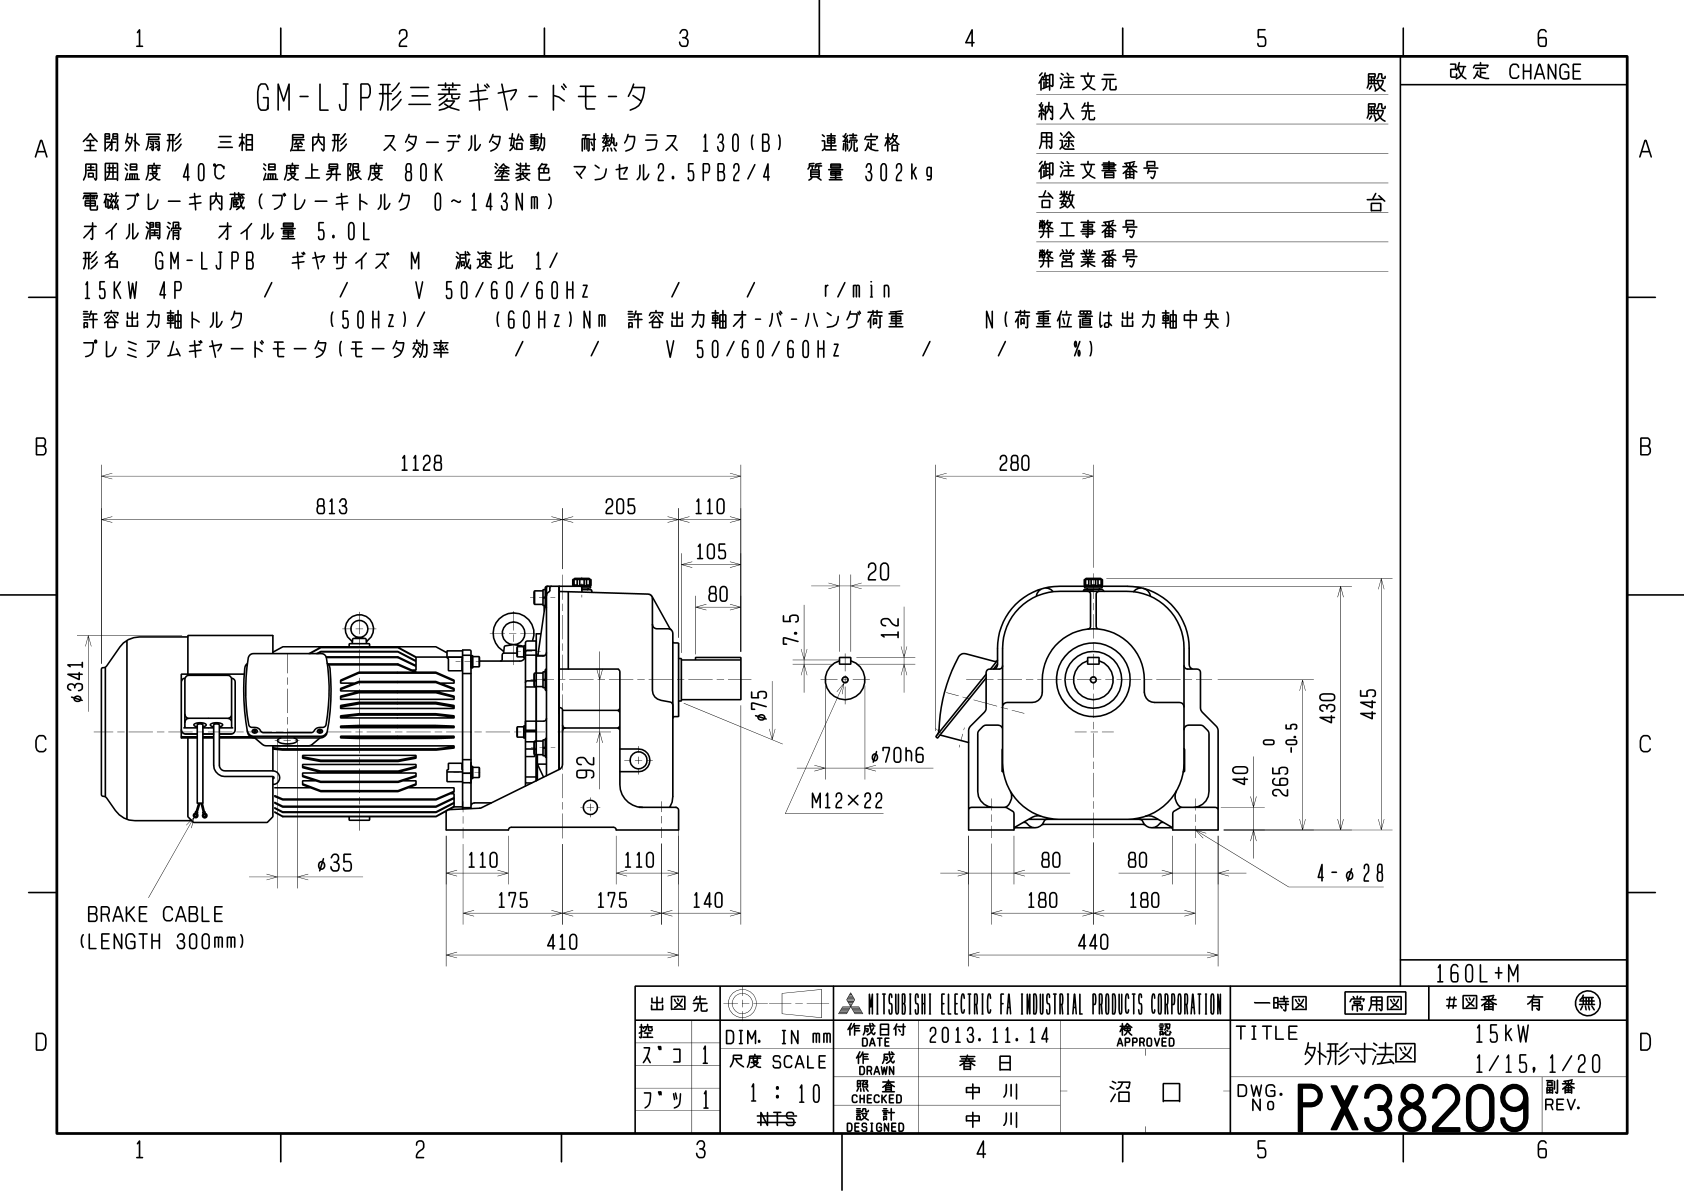GM_LJP_屋内_三相_脚: (26, 18, 1684, 1191)
